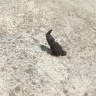Dog: (46, 30, 66, 56)
